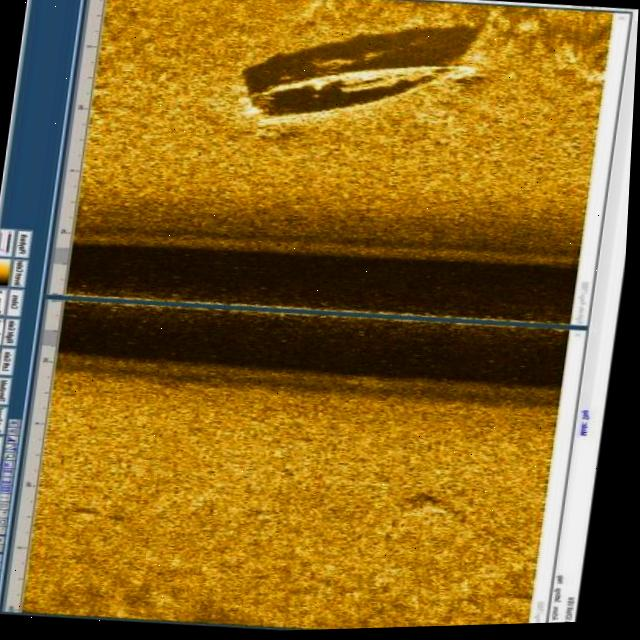shipwreck: (236, 44, 490, 149)
